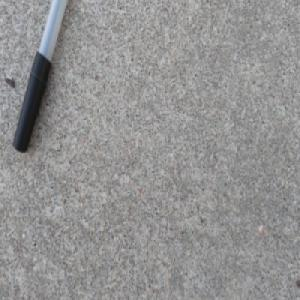Pen: (12, 0, 70, 155)
